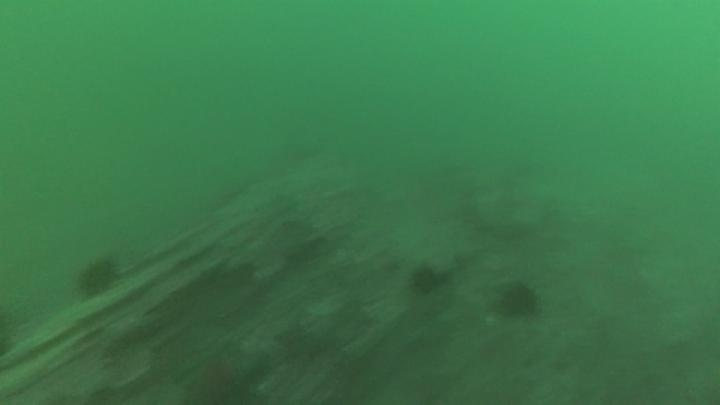echinus: (75, 255, 122, 300), (495, 279, 542, 321), (407, 262, 445, 298)
starfish: (176, 339, 270, 405)
